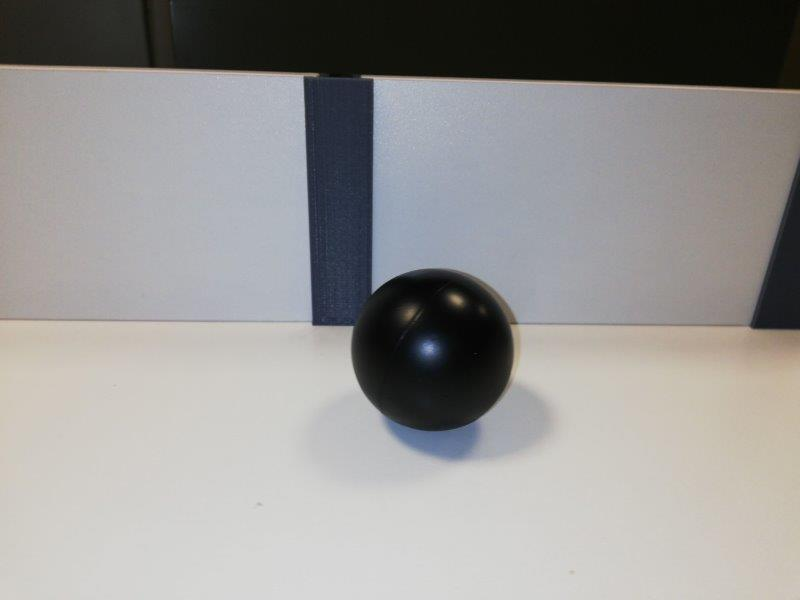nera: (351, 268, 516, 430)
